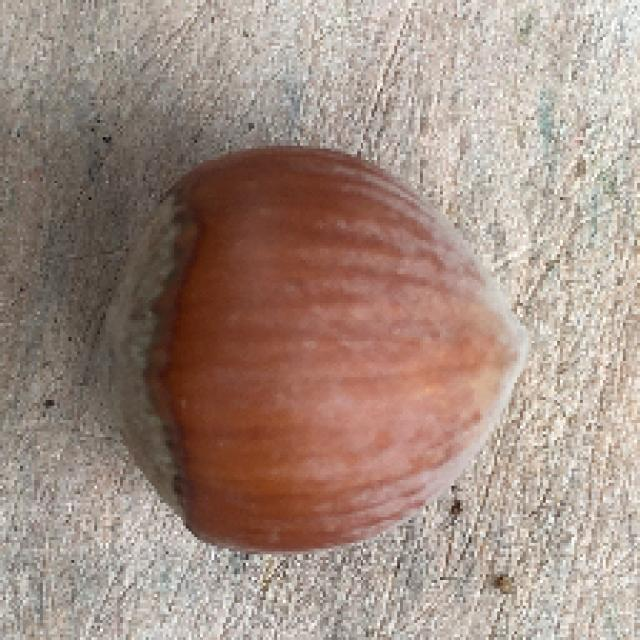QualityHazelnut: (101, 140, 533, 554)
